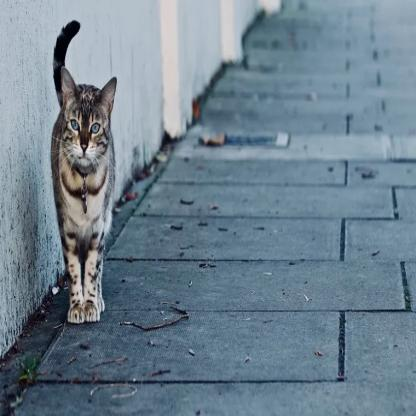cat: (52, 65, 116, 320)
